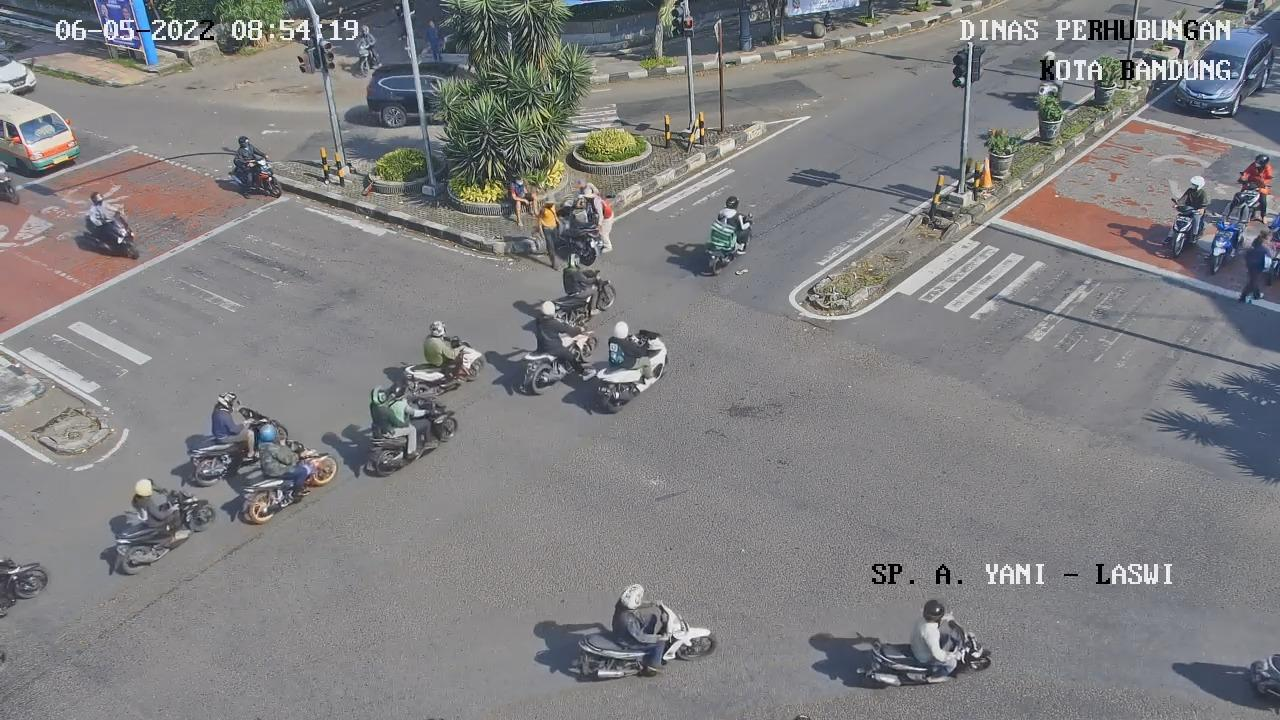accident: (507, 176, 541, 228)
